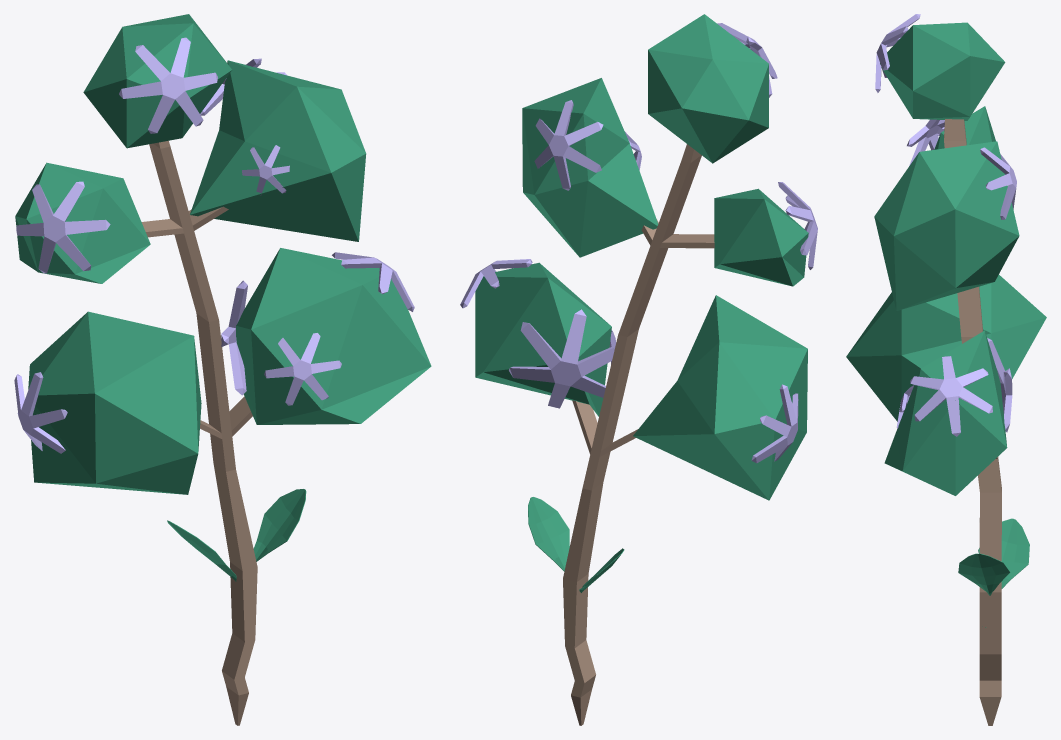
File: Rosemary_Flower.fbx
3 views of the same model, side by side, from view 1: azimuth 30°, elevation 25°; view 2: azimuth 150°, elevation 25°; view 3: azimuth 270°, elevation 25° (orthographic). The views are drawn at different scales.
Parts seen in each view (by area): view 1: pPlatonic2, pPlatonic1, pPlatonic3, pPlane1, pPlatonic5, pPlatonic4, FlowerFace.009, FlowerFace.008, Leaf.005, FlowerFace.011, FlowerFace.005, FlowerFace.004 (+3 smaller); view 2: pPlatonic2, pPlatonic3, pPlane1, pPlatonic5, pPlatonic1, pPlatonic4, FlowerFace.004, FlowerFace.007, Leaf.005, FlowerFace.005, FlowerFace.008, FlowerFace.006 (+1 smaller); view 3: pPlatonic3, pPlatonic2, pPlatonic1, pPlatonic5, pPlane1, FlowerFace.006, Leaf.004, Leaf.005, FlowerFace.007, pPlatonic4, FlowerFace.009, FlowerFace.004 (+1 smaller).
Boxes of the visible parts, bbox=[...] form: pPlatonic2: bbox=[28, 311, 201, 494]; pPlatonic1: bbox=[236, 248, 431, 424]; pPlatonic3: bbox=[190, 60, 366, 241]; pPlane1: bbox=[141, 141, 257, 725]; pPlatonic5: bbox=[83, 14, 231, 148]; pPlatonic4: bbox=[15, 162, 150, 283]; FlowerFace.009: bbox=[119, 37, 217, 133]; FlowerFace.008: bbox=[16, 181, 110, 273]; Leaf.005: bbox=[253, 489, 306, 561]; FlowerFace.011: bbox=[264, 333, 341, 405]; FlowerFace.005: bbox=[14, 372, 67, 453]; FlowerFace.004: bbox=[221, 280, 247, 395]; pPlatonic2: bbox=[633, 295, 807, 500]; pPlatonic3: bbox=[522, 78, 658, 257]; pPlane1: bbox=[563, 144, 714, 725]; pPlatonic5: bbox=[648, 14, 768, 163]; pPlatonic1: bbox=[475, 262, 611, 416]; pPlatonic4: bbox=[714, 188, 808, 286]; FlowerFace.004: bbox=[509, 309, 615, 408]; FlowerFace.007: bbox=[534, 100, 603, 190]; Leaf.005: bbox=[528, 497, 569, 571]; FlowerFace.005: bbox=[751, 384, 798, 463]; FlowerFace.008: bbox=[778, 182, 817, 269]; FlowerFace.006: bbox=[460, 259, 532, 308]; pPlatonic3: bbox=[874, 141, 1019, 310]; pPlatonic2: bbox=[846, 274, 1046, 421]; pPlatonic1: bbox=[884, 330, 1007, 495]; pPlatonic5: bbox=[880, 22, 1005, 120]; pPlane1: bbox=[944, 119, 1001, 725]; FlowerFace.006: bbox=[910, 356, 992, 436]; Leaf.004: bbox=[978, 518, 1029, 627]; Leaf.005: bbox=[958, 553, 1010, 595]; FlowerFace.007: bbox=[980, 147, 1016, 219]; pPlatonic4: bbox=[934, 106, 995, 149]; FlowerFace.009: bbox=[875, 14, 920, 92]; FlowerFace.004: bbox=[987, 338, 1012, 432].
Size of the model in its own units: 3.83 by 7.28 by 2.
